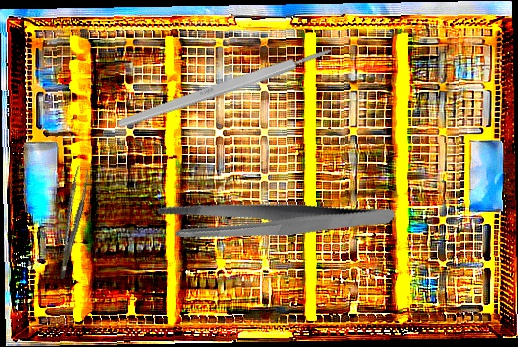Dressing Forceps: (152, 154, 397, 287)
Scalpel Handle: (116, 44, 334, 131)
Tissue Forceps: (46, 164, 96, 280)
